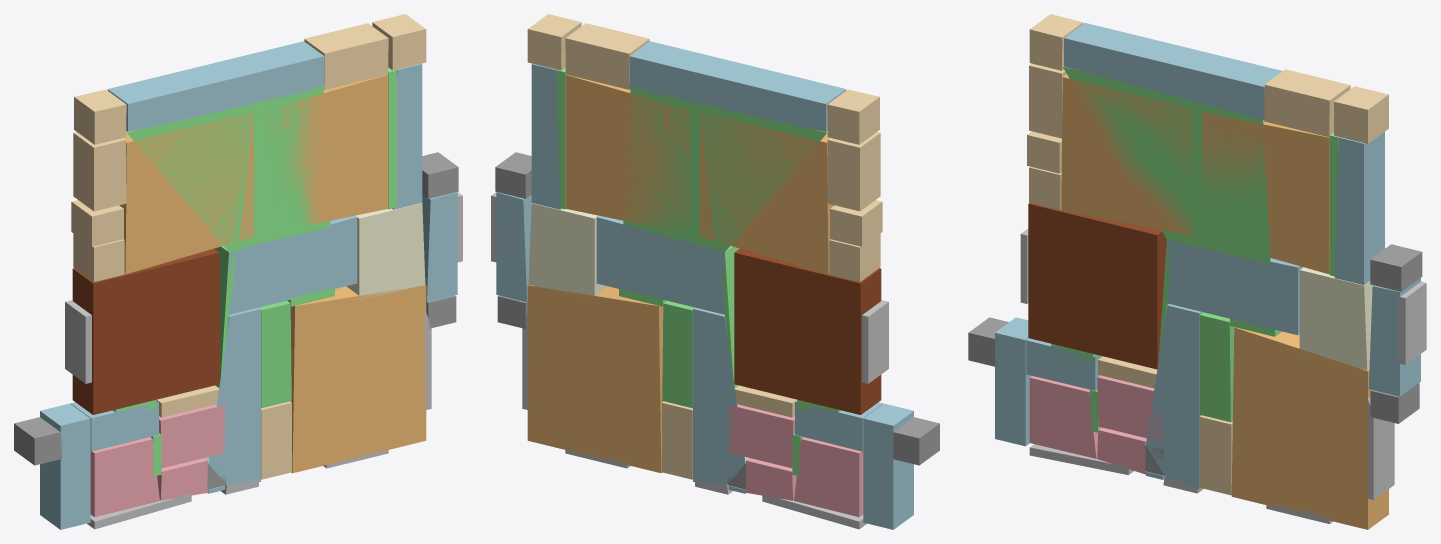
Rendered from floor_plan_3d.obj.
3 views of the same model, side by side, from view 1: azimuth 30°, elevation 25°; view 2: azimuth 150°, elevation 25°; view 3: azimuth 330°, elevation 25° (orthographic). The views are drawn at different scales.
Size of the model in its own units: 30.03 by 28.11 by 2.5.
